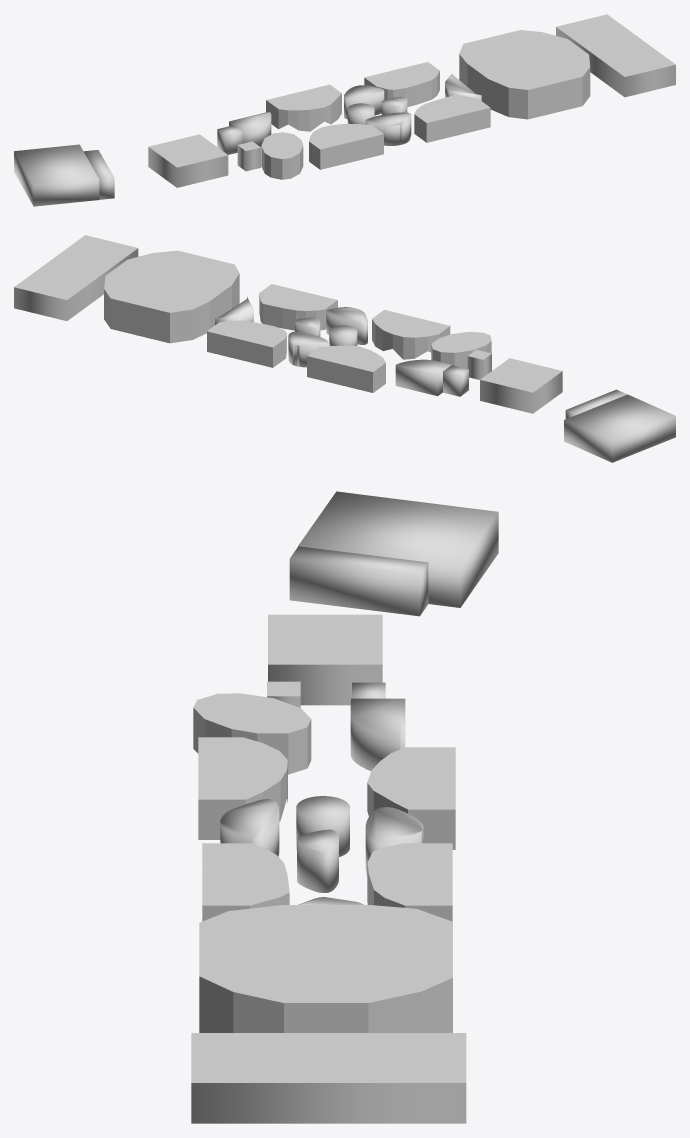
The model's file is Zones.glb.
3 renders of one model, top to bottom at view 1: azimuth 30°, elevation 25°; view 2: azimuth 150°, elevation 25°; view 3: azimuth 270°, elevation 25°, orthographic. The views are drawn at different scales.
Parts seen in each view (by area): view 1: Зал пленарного заседания, VIP-зал, Аккредитация, Фойе, Конференц-зал 3, Конференц-зал 1, Конференц-зал 2, Конференц-зал 4, Овальный зал, Лаунж-зона 2, Инфо-стойка, Лаунж-зона 1 (+5 smaller); view 2: Зал пленарного заседания, VIP-зал, Аккредитация, Фойе, Конференц-зал 4, Конференц-зал 2, Конференц-зал 1, Конференц-зал 3, Овальный зал, Инфо-стойка, Лаунж-зона 2, Лаунж-зона 1 (+5 smaller); view 3: Зал пленарного заседания, VIP-зал, Аккредитация, Фойе, Конференц-зал 1, Конференц-зал 2, Овальный зал, Конференц-зал 4, Конференц-зал 3, Инфо-стойка, Лаунж-зона 2, Арт-объект (+2 smaller).
Boxes of the visible parts, x1,y1,x2,y2 form: Зал пленарного заседания: (459, 30, 590, 119); VIP-зал: (556, 14, 675, 97); Аккредитация: (14, 144, 114, 206); Фойе: (148, 134, 228, 187); Конференц-зал 3: (414, 95, 490, 142); Конференц-зал 1: (309, 123, 383, 169); Конференц-зал 2: (266, 84, 341, 131); Конференц-зал 4: (364, 62, 439, 107); Овальный зал: (261, 132, 303, 179); Лаунж-зона 2: (365, 112, 411, 145); Инфо-стойка: (229, 111, 271, 146); Лаунж-зона 1: (344, 85, 384, 119); Зал пленарного заседания: (104, 250, 239, 343); VIP-зал: (14, 235, 138, 320); Аккредитация: (564, 389, 675, 462); Фойе: (480, 358, 562, 413); Конференц-зал 4: (207, 320, 286, 367); Конференц-зал 2: (307, 345, 385, 392); Конференц-зал 1: (372, 310, 450, 359); Конференц-зал 3: (259, 284, 337, 330); Овальный зал: (431, 332, 491, 368); Инфо-стойка: (395, 359, 451, 396); Лаунж-зона 2: (326, 307, 367, 344); Лаунж-зона 1: (288, 331, 328, 367); Зал пленарного заседания: (199, 905, 452, 1032); VIP-зал: (191, 1033, 466, 1123); Аккредитация: (289, 491, 498, 616); Фойе: (268, 614, 382, 705); Конференц-зал 1: (198, 737, 287, 839); Конференц-зал 2: (367, 747, 455, 849); Овальный зал: (193, 693, 311, 774); Конференц-зал 4: (367, 843, 452, 921); Конференц-зал 3: (202, 843, 289, 921); Инфо-стойка: (350, 698, 405, 770); Лаунж-зона 2: (220, 799, 279, 856); Арт-объект: (297, 829, 338, 892).
Size of the model in its own units: 208 by 10.06 by 45.69.
Materials: 1 (1 with a texture image).
